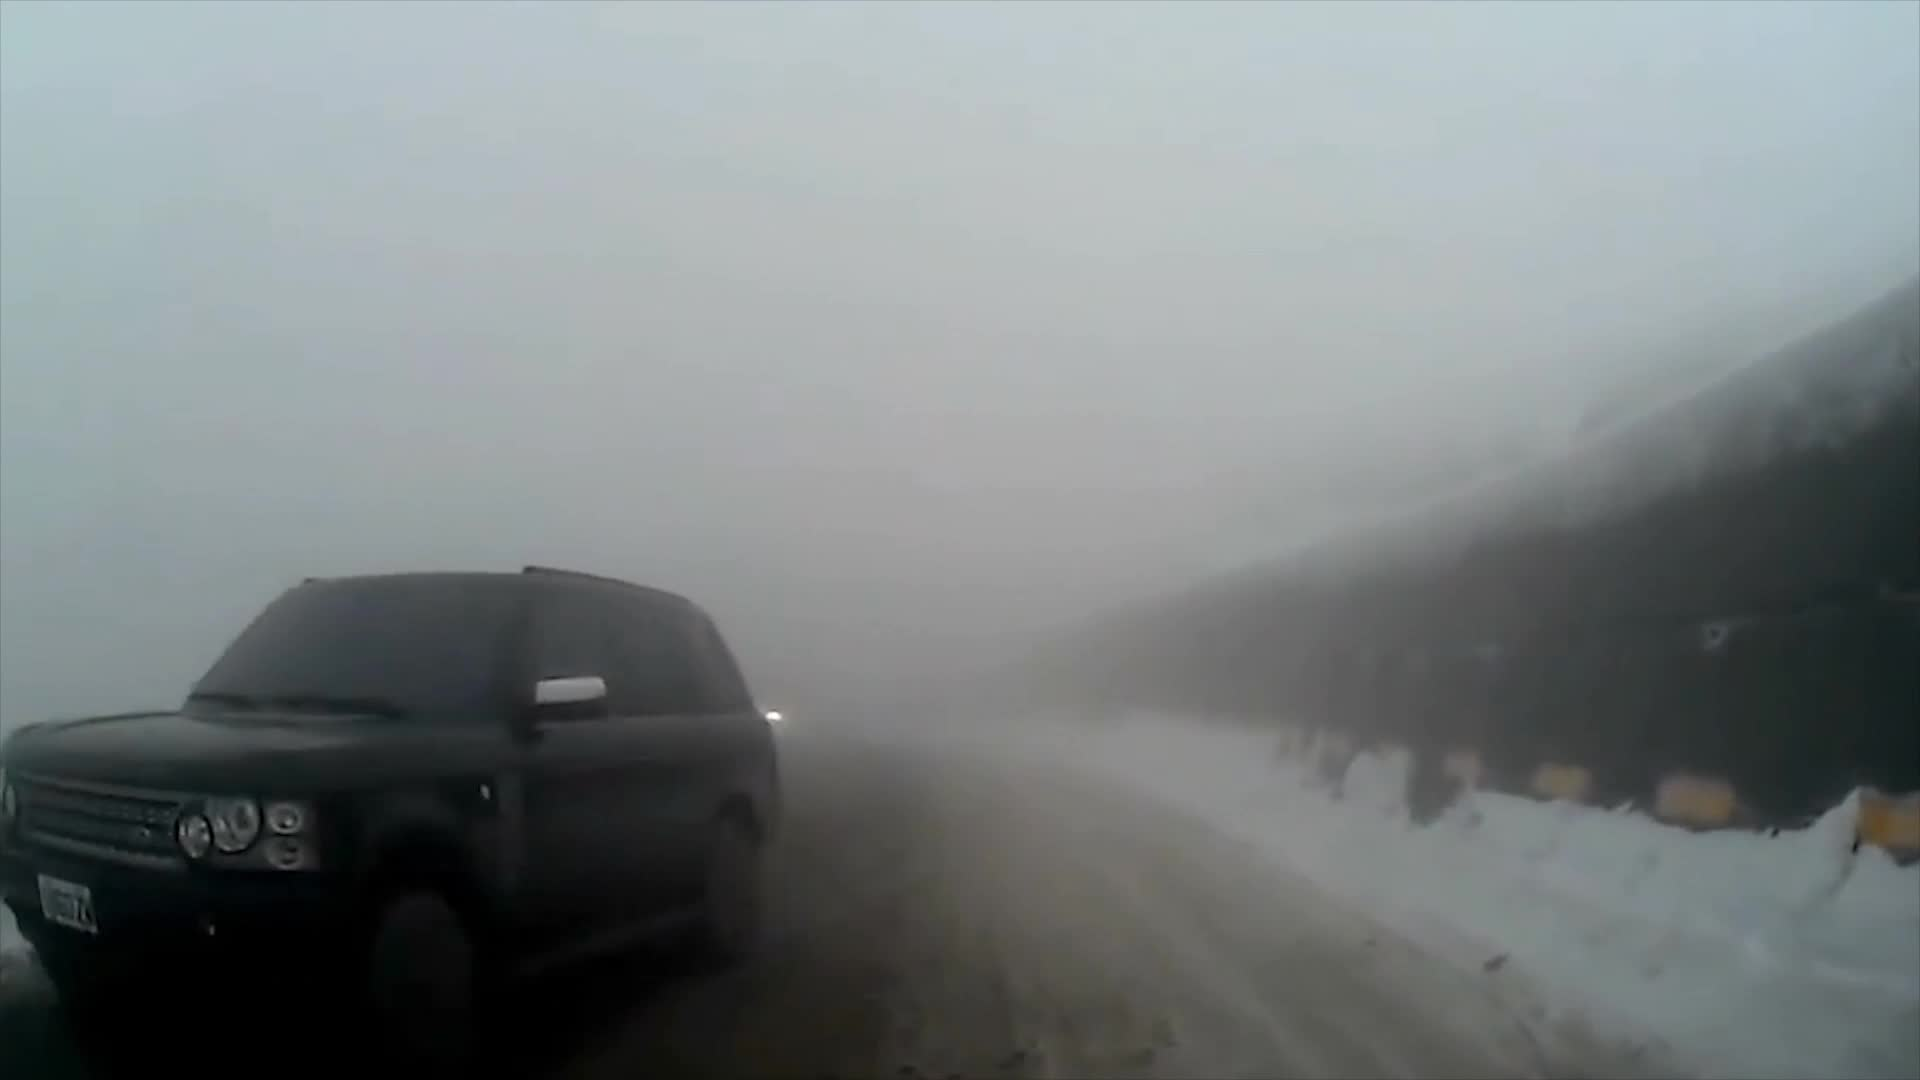vehicle: (0, 563, 778, 1033)
